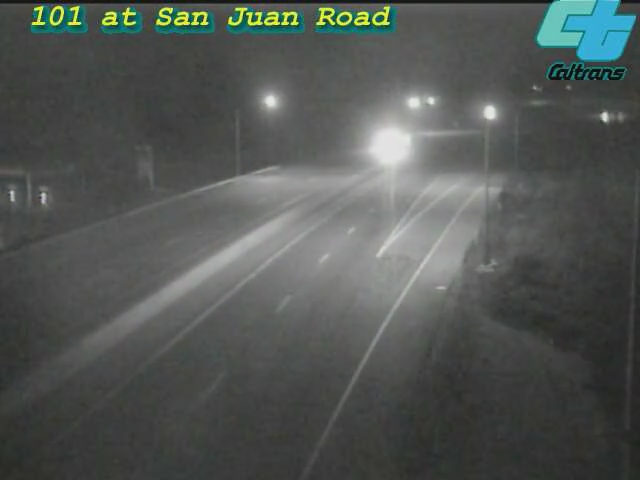vehicle: (365, 119, 415, 169), (579, 92, 629, 142), (463, 88, 513, 138)
